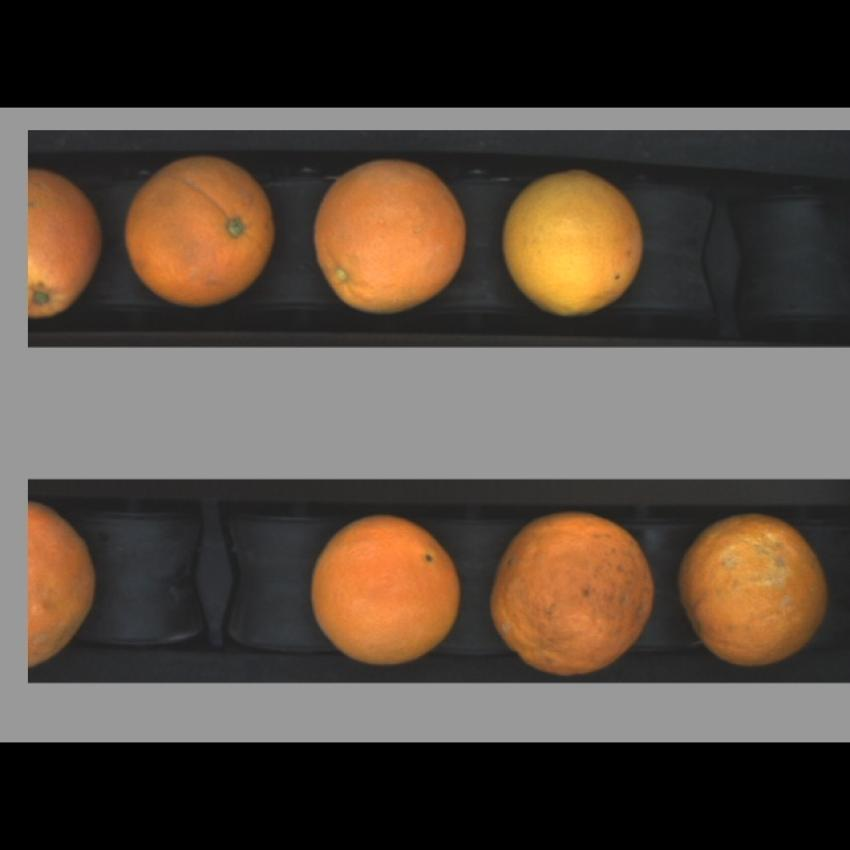Buen estado: (306, 511, 468, 669), (496, 162, 654, 322)
Mal estado: (488, 504, 660, 678), (306, 156, 476, 316), (674, 510, 833, 673), (123, 159, 278, 308), (29, 164, 104, 328), (32, 498, 100, 673)
